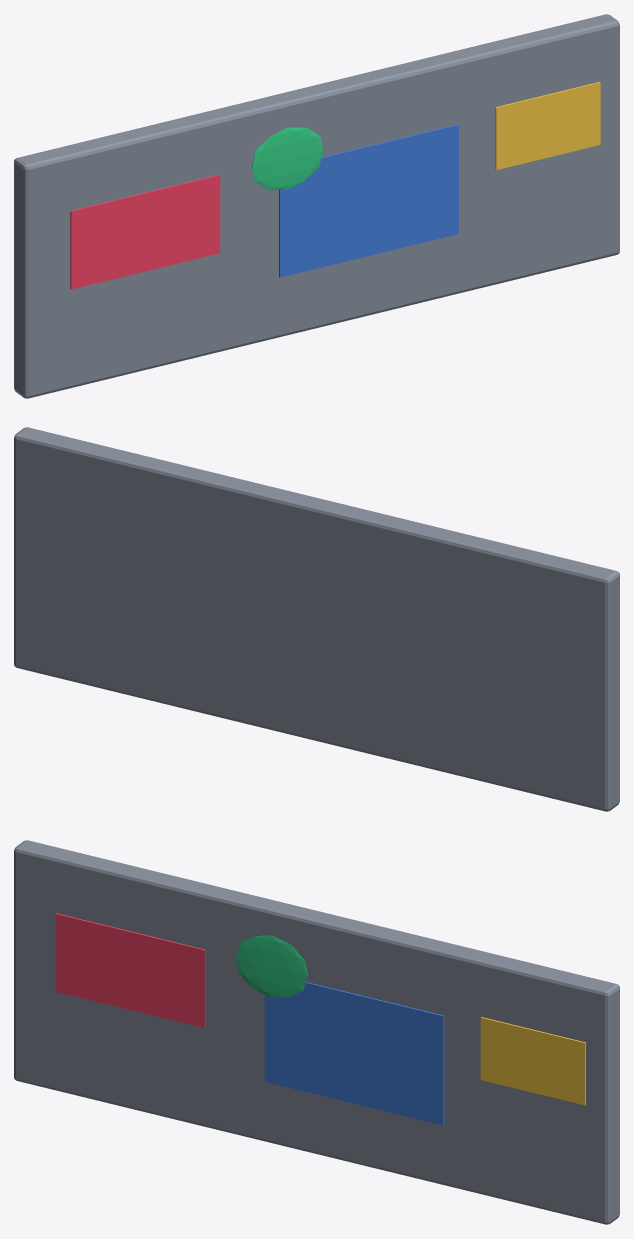
The model's file is Skate_GraffitiWall.fbx.
3 renders of one model, top to bottom at view 1: azimuth 30°, elevation 25°; view 2: azimuth 150°, elevation 25°; view 3: azimuth 330°, elevation 25°, orthographic.
Parts seen in each view (by area): view 1: GraffitiWall; view 2: GraffitiWall; view 3: GraffitiWall.
Part boxes in pixels (<box>): GraffitiWall: <box>14,14,619,398</box>; GraffitiWall: <box>14,427,619,811</box>; GraffitiWall: <box>14,840,619,1224</box>.
Size of the model in its own units: 8 by 3 by 0.35.
